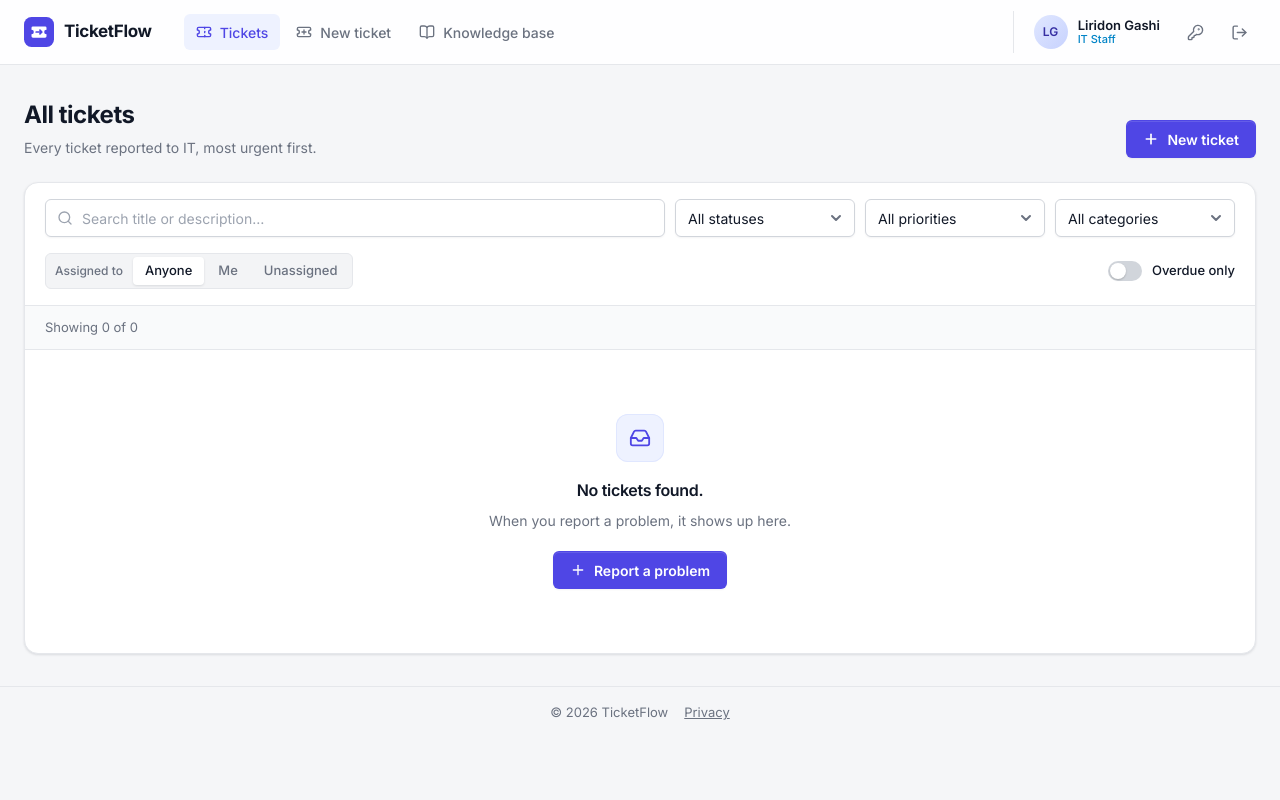
Test: Layout top bar › Log out asks the backend to clear the session cookies (with the CSRF header), then shows the login page
Click the button named "Log out" at (1239, 32), box [1222, 15, 1256, 49]
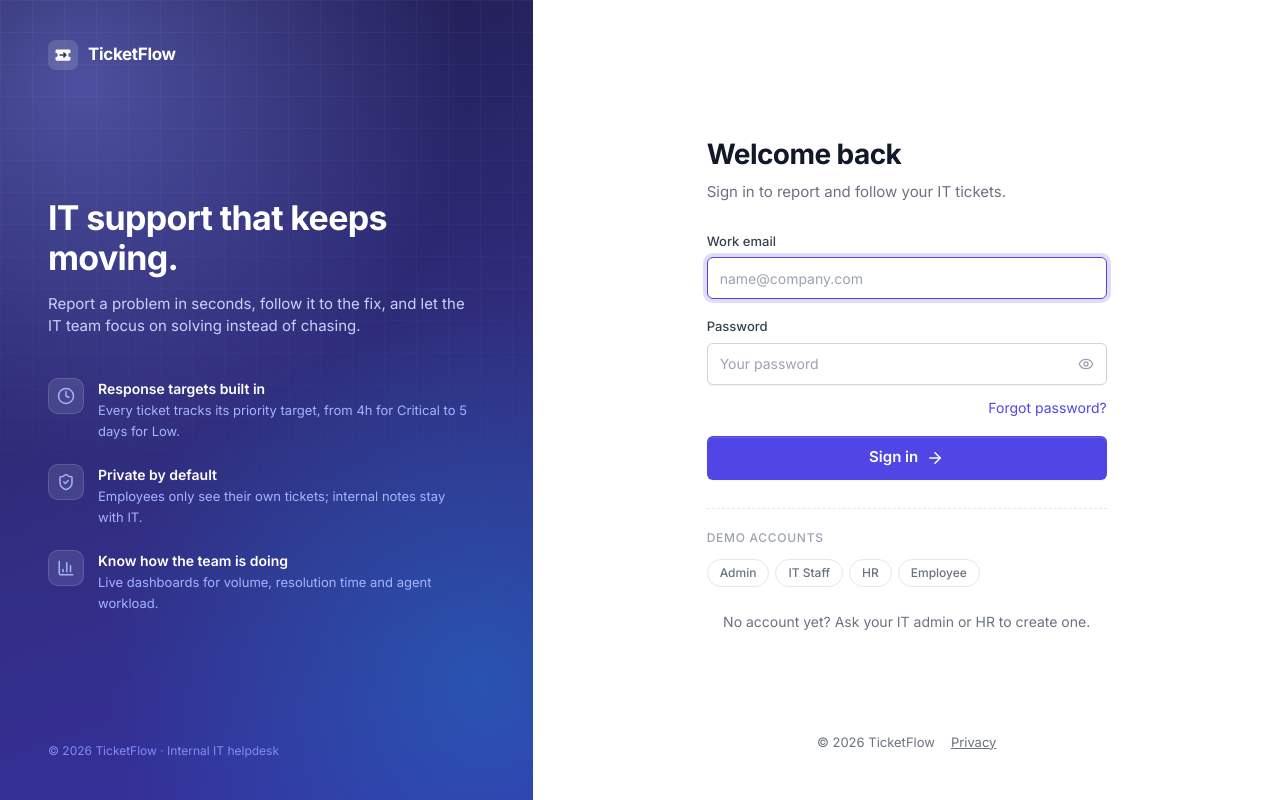
Now the heading "Welcome back" is shown, box [707, 137, 901, 171]
